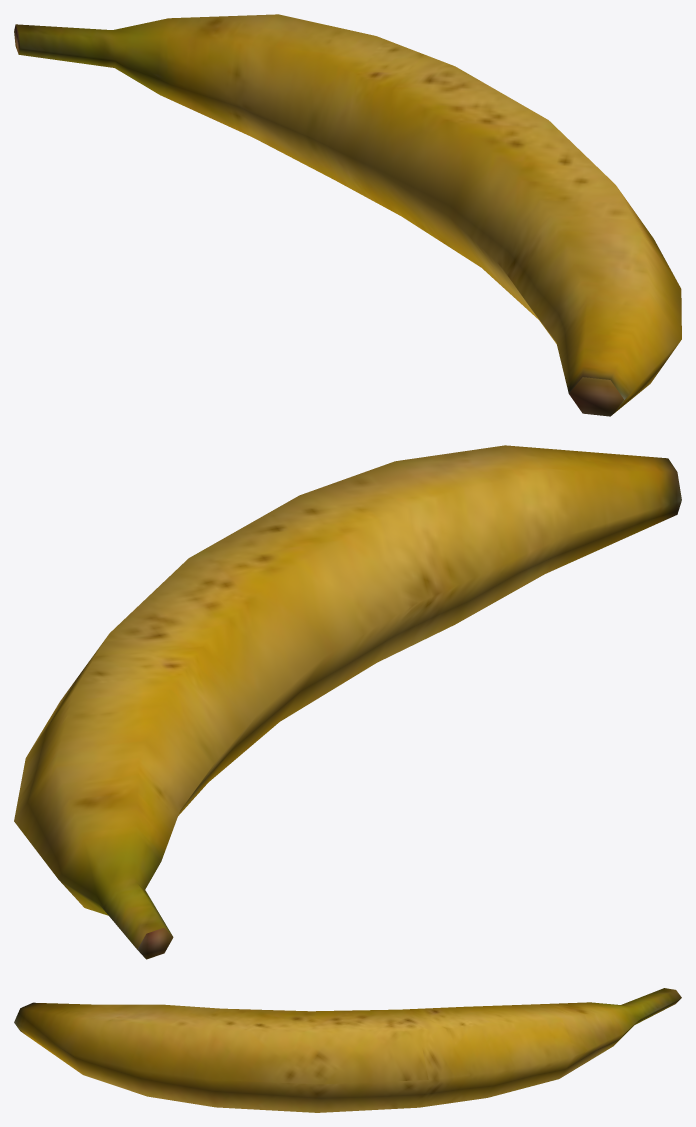
Rendered from inventory_items.fbx.
3 views of the same model, one above another, from view 1: azimuth 30°, elevation 25°; view 2: azimuth 150°, elevation 25°; view 3: azimuth 270°, elevation 25° (orthographic). The views are drawn at different scales.
Visible parts, largest first — view 1: banana; view 2: banana; view 3: banana.
Part boxes in pixels (<box>): banana: <box>14,14,681,416</box>; banana: <box>14,445,681,959</box>; banana: <box>14,988,681,1112</box>.
Bounding box in the file's own units: 69.78 × 9.15 × 22.35.
1 material, 1 textured.
